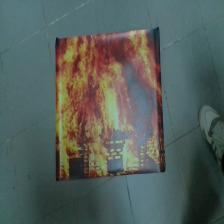fire-poster: (56, 28, 165, 180)
